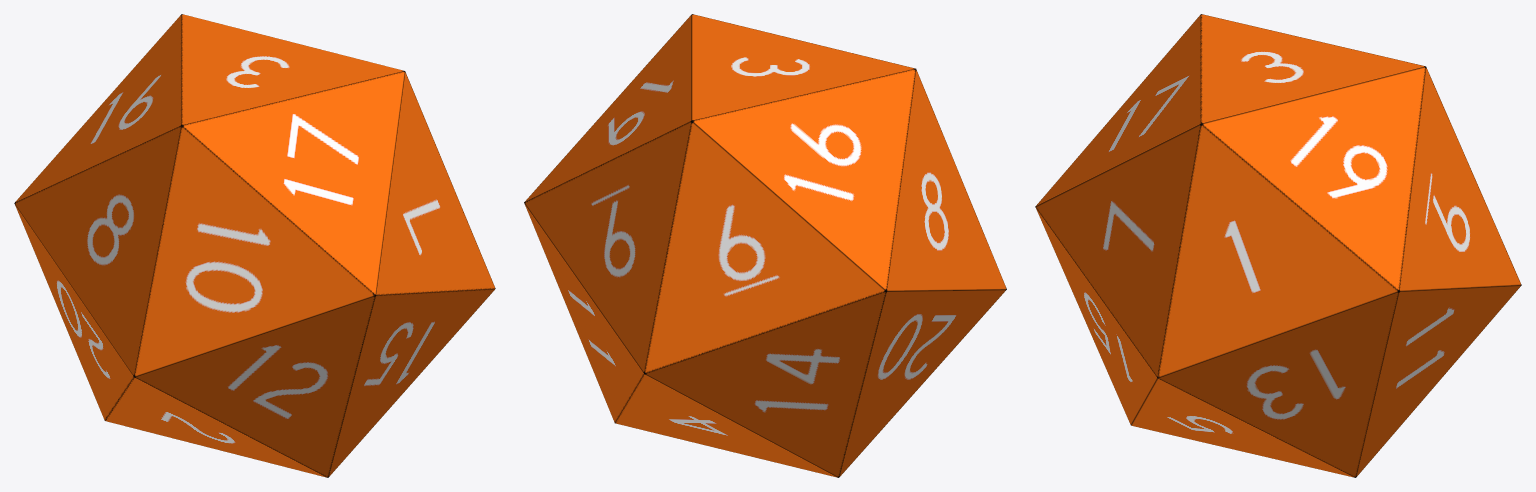
The model's file is d20_gfx.fbx.
3 views of the same model, side by side, from view 1: azimuth 30°, elevation 25°; view 2: azimuth 150°, elevation 25°; view 3: azimuth 270°, elevation 25° (orthographic).
Parts seen in each view (by area): view 1: d20; view 2: d20; view 3: d20.
Boxes of the visible parts, x1,y1,x2,y2 form: d20: [14, 14, 495, 477]; d20: [524, 14, 1006, 477]; d20: [1035, 14, 1521, 477].
Bounding box in the file's own units: 170 × 160 × 197.
